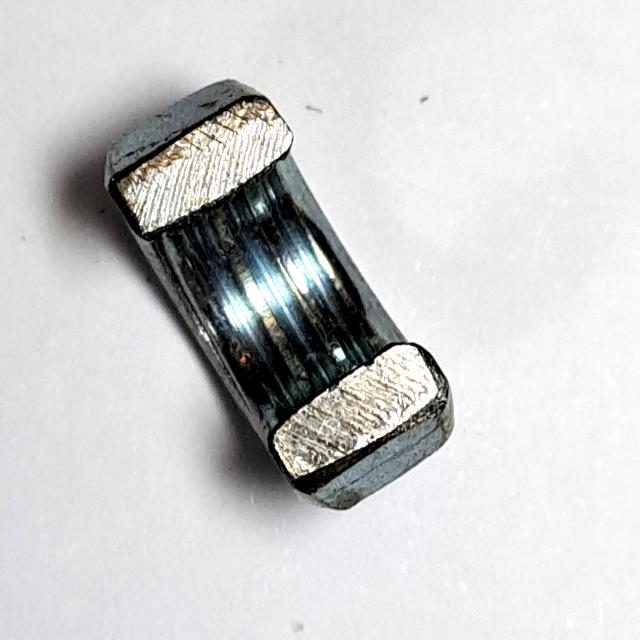Side-Fracture: (83, 62, 466, 519)
